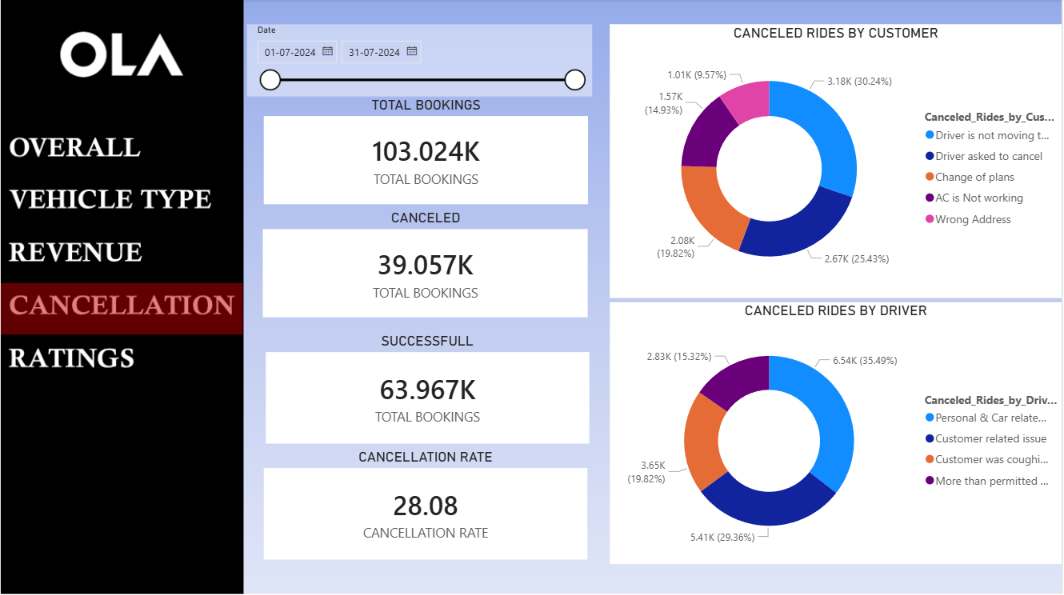

Layout of this report page (visuals, bound fields, positions):
{"tool":"powerbi","page":{"name":"cancellation","canvas":[1280,720],"ordinal":3},"visuals":[{"type":"actionButton","box":[0,208.6,295,68.6],"z":0},{"type":"actionButton","box":[1.4,277.2,295,68.6],"z":1000},{"type":"actionButton","box":[0,403.4,295,68.6],"z":2000},{"type":"actionButton","box":[0,141.3,295,68.6],"z":3000},{"type":"donutChart","title":"CANCELED RIDES BY CUSTOMER","fields":{"Y":["CountNonNull(July.Booking_ID)"],"Category":["July.Canceled_Rides_by_Customer"]},"box":[734.3,30,545.7,330],"z":4000},{"type":"donutChart","title":"CANCELED RIDES BY DRIVER","fields":{"Category":["July.Canceled_Rides_by_Driver"],"Y":["CountNonNull(July.Booking_ID)"]},"box":[734.3,365.7,545.7,315.7],"z":5000},{"type":"slicer","fields":{"Values":["July.Date"]},"box":[297.1,30,417.1,87.1],"z":6000},{"type":"cardVisual","title":"TOTAL BOOKINGS","fields":{"Data":["CountNonNull(July.Booking_ID)"]},"box":[312.9,117.1,401.4,135.7],"z":7000},{"type":"cardVisual","title":"SUCCESSFULL","fields":{"Data":["CountNonNull(July.Booking_ID)"]},"box":[314.3,401.4,400,140],"z":8000},{"type":"cardVisual","title":"CANCELED ","fields":{"Data":["CountNonNull(July.Booking_ID)"]},"box":[311.4,252.9,402.9,135.7],"z":9000},{"type":"cardVisual","title":"CANCELLATION RATE","fields":{"Data":["July.CANCELLATION RATE"]},"box":[312.9,541.4,400,140],"z":10000}]}

Visuals, with their boxes in screenshot pixels (x1, y1, x2, y2), scaled from the page's 1280x720 canvas onto the 1064x595 screenshot:
actionButton: 0/172/245/229
actionButton: 1/229/246/286
actionButton: 0/333/245/390
actionButton: 0/117/245/173
"CANCELED RIDES BY CUSTOMER" donutChart: 610/25/1063/298
"CANCELED RIDES BY DRIVER" donutChart: 610/302/1063/563
slicer - July.Date: 247/25/594/97
"TOTAL BOOKINGS" cardVisual: 260/97/594/209
"SUCCESSFULL" cardVisual: 261/332/594/447
"CANCELED " cardVisual: 259/209/594/321
"CANCELLATION RATE" cardVisual: 260/447/593/563
